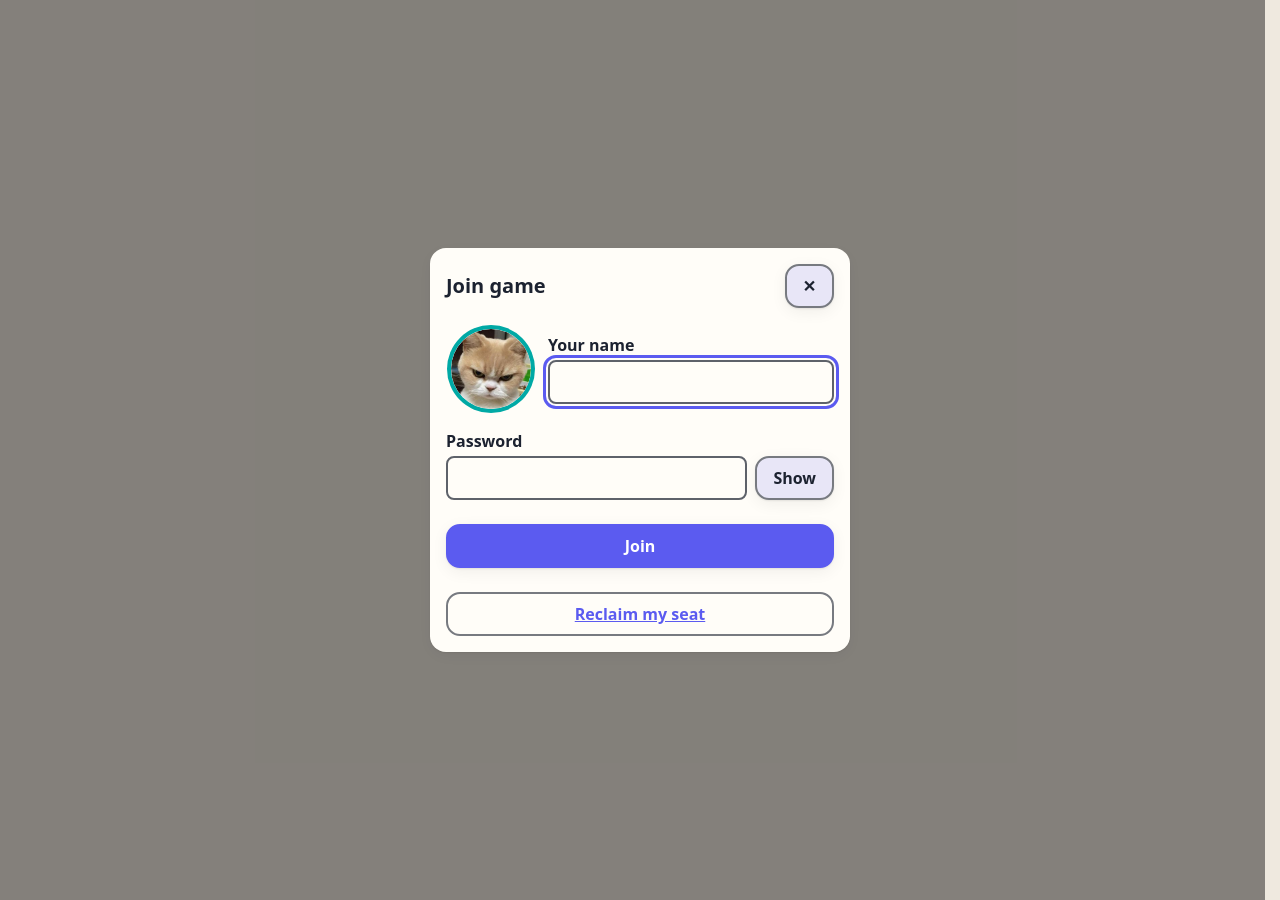
Test: JoinDialog › a wrong password is never stored
The width and height of the screenshot is (1280, 900).
Type "Cleo" into the field labelled "Your name".
click(691, 382); type("Cleo")  # box [548,360,834,404]
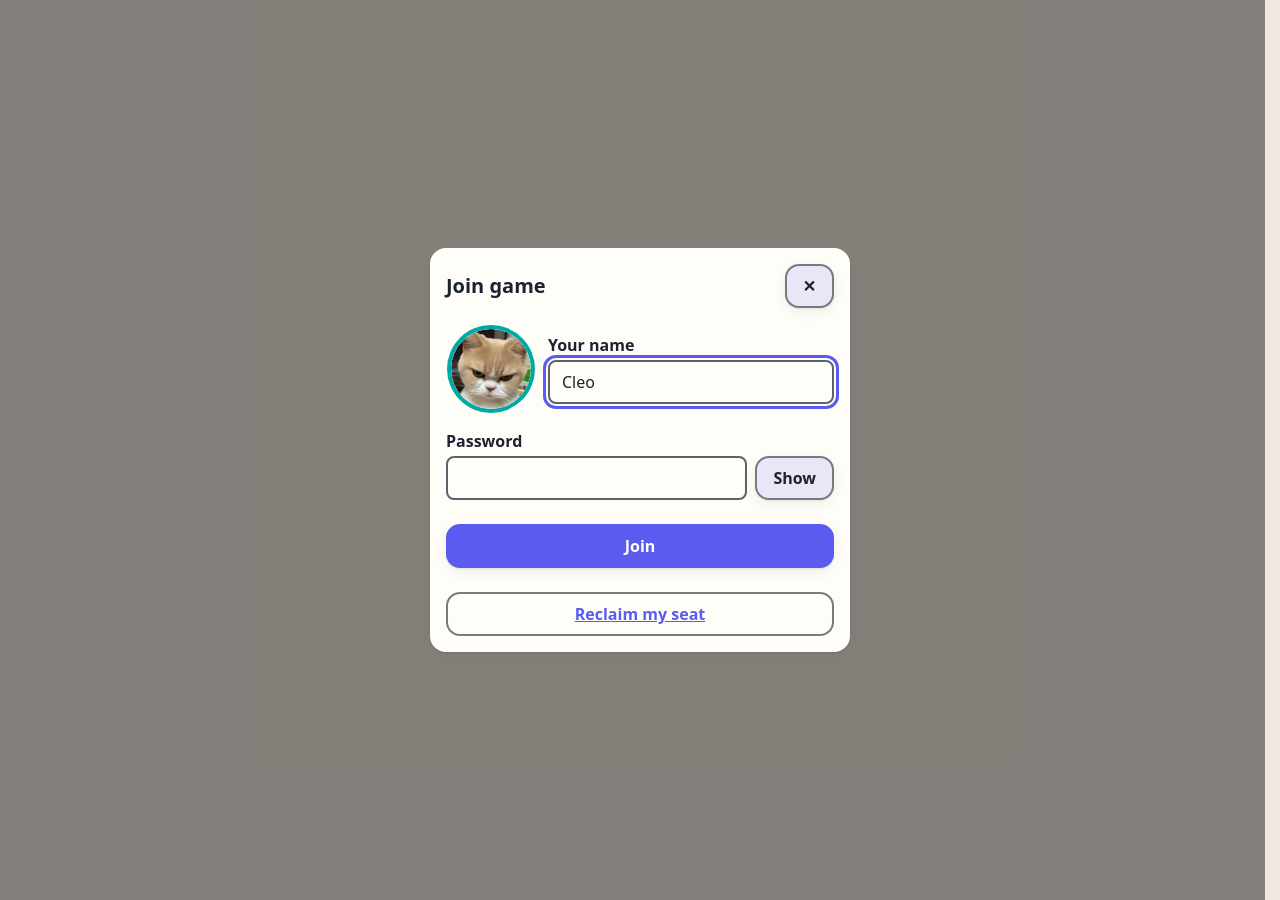
Type "wrong1" into the password field labelled "Password".
click(597, 478); type("wrong1")  # box [446,456,747,500]
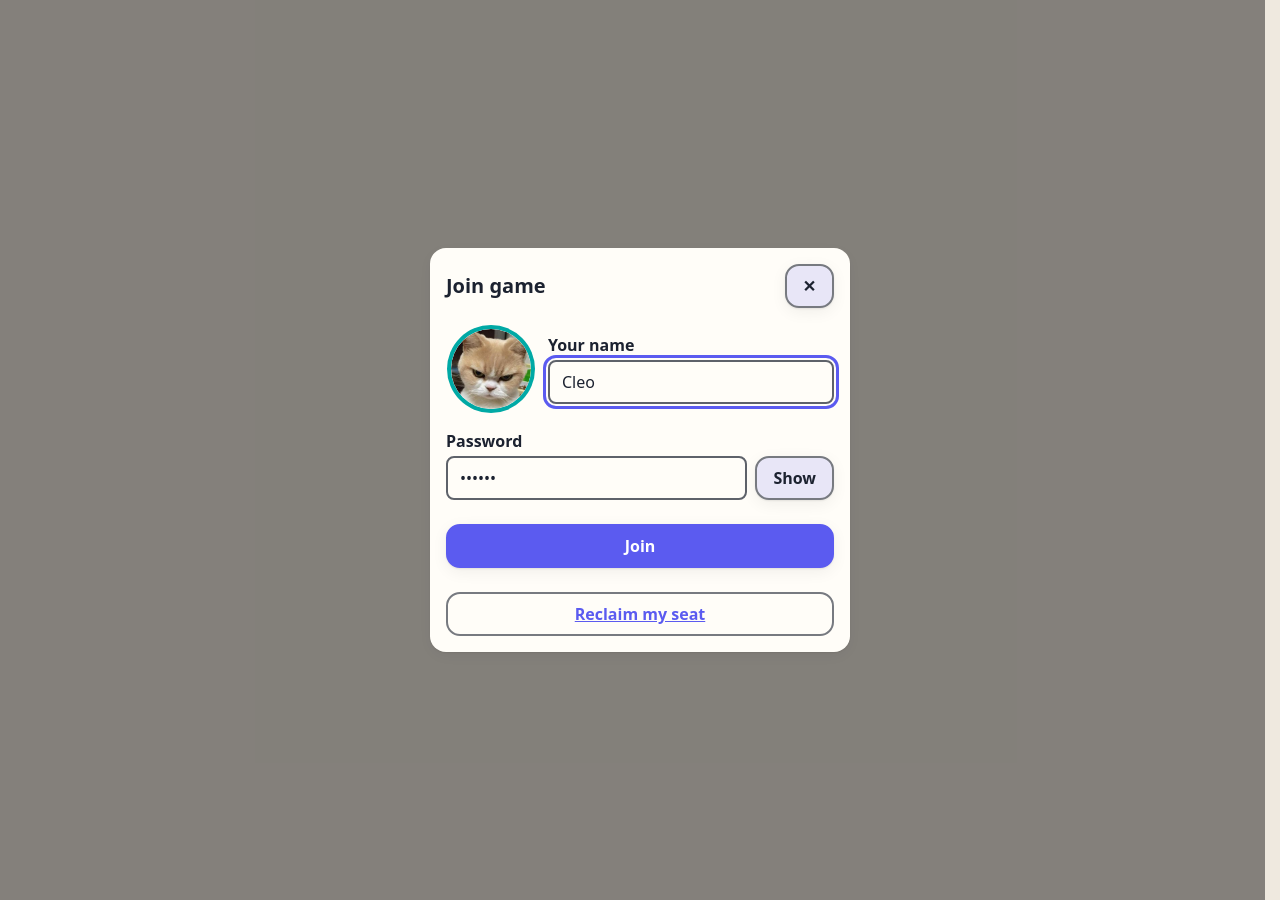
Click the button "Join".
click(640, 546)  # box [446,524,834,568]
(page scrolled)
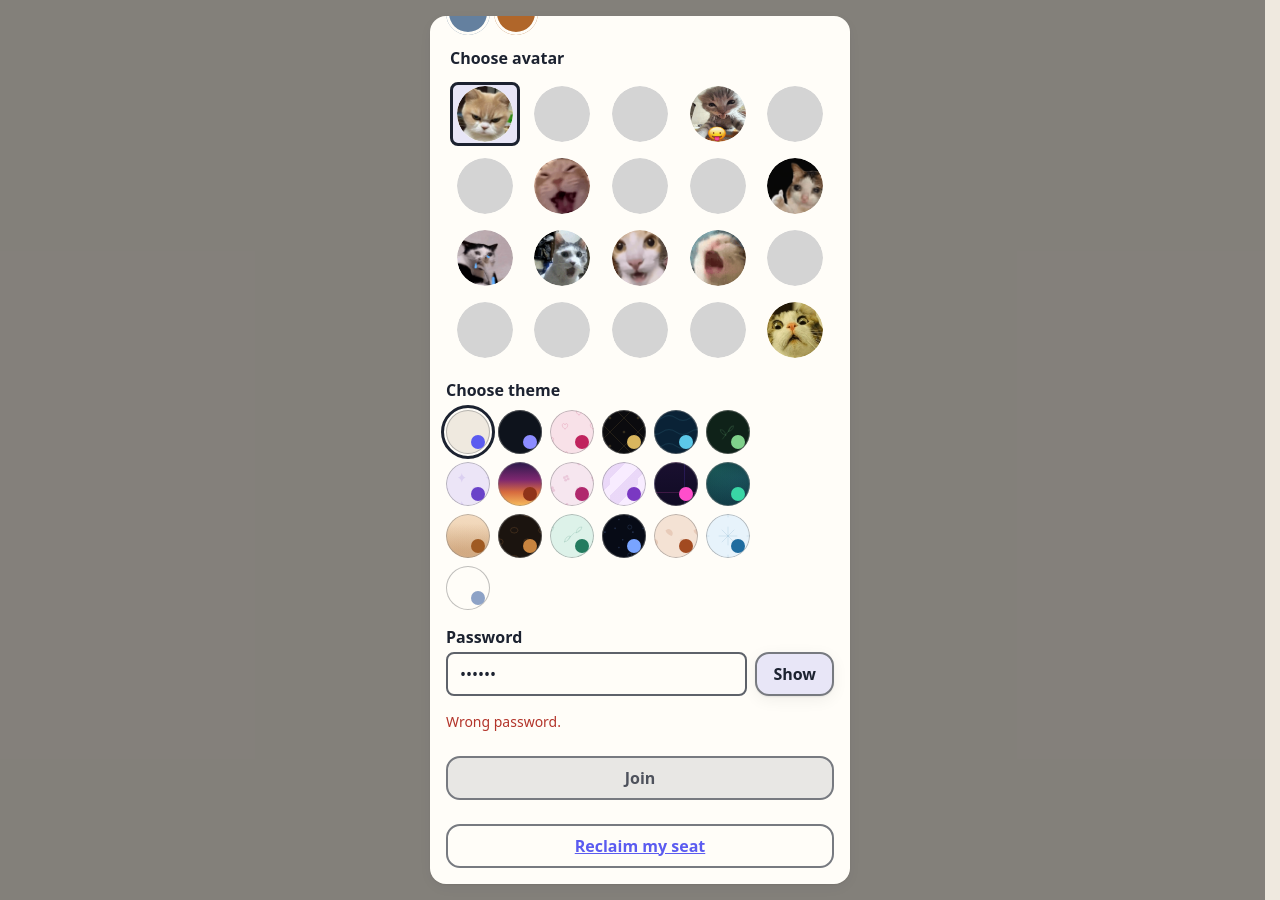
Expected: the text "Wrong password." is shown, [446,712,561,731]
